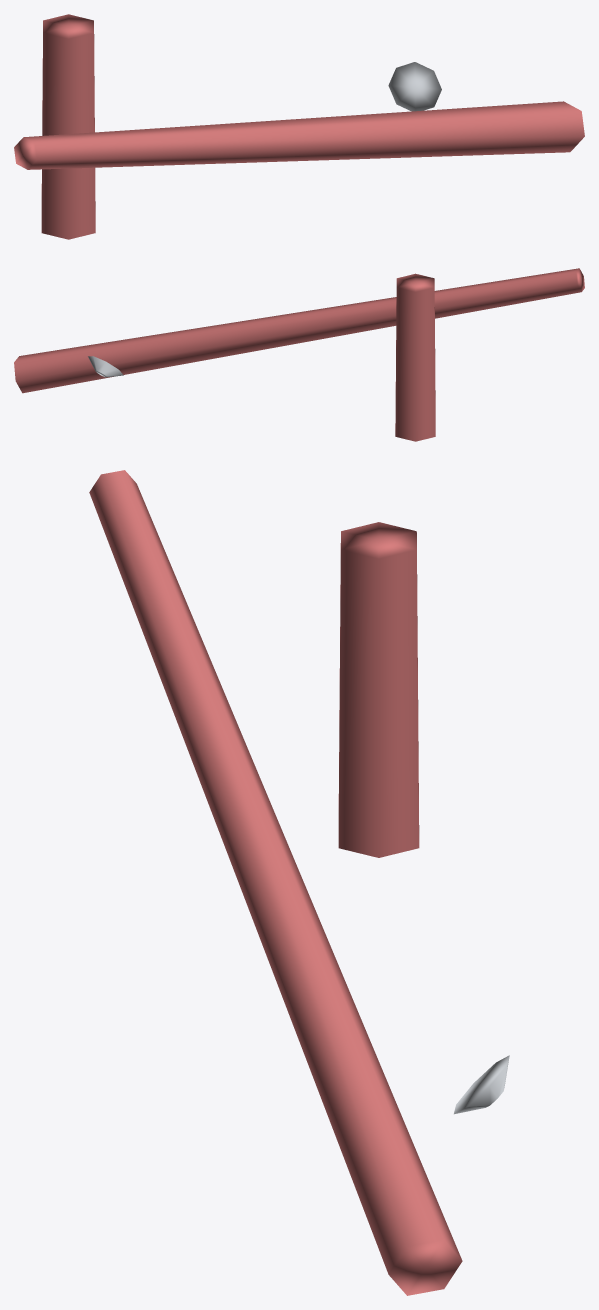
The model's file is radio-tower-wreck.glb.
3 renders of one model, top to bottom at view 1: azimuth 30°, elevation 25°; view 2: azimuth 150°, elevation 25°; view 3: azimuth 270°, elevation 25°, orthographic. The views are drawn at different scales.
Visible parts, largest first — view 1: Root; view 2: Root; view 3: Root.
Boxes of the visible parts, x1=… form: Root: x1=14, y1=14, x2=584, y2=239; Root: x1=14, y1=268, x2=584, y2=441; Root: x1=89, y1=470, x2=509, y2=1295.
Bounding box in the file's own units: 20.75 × 7.73 × 7.68.
